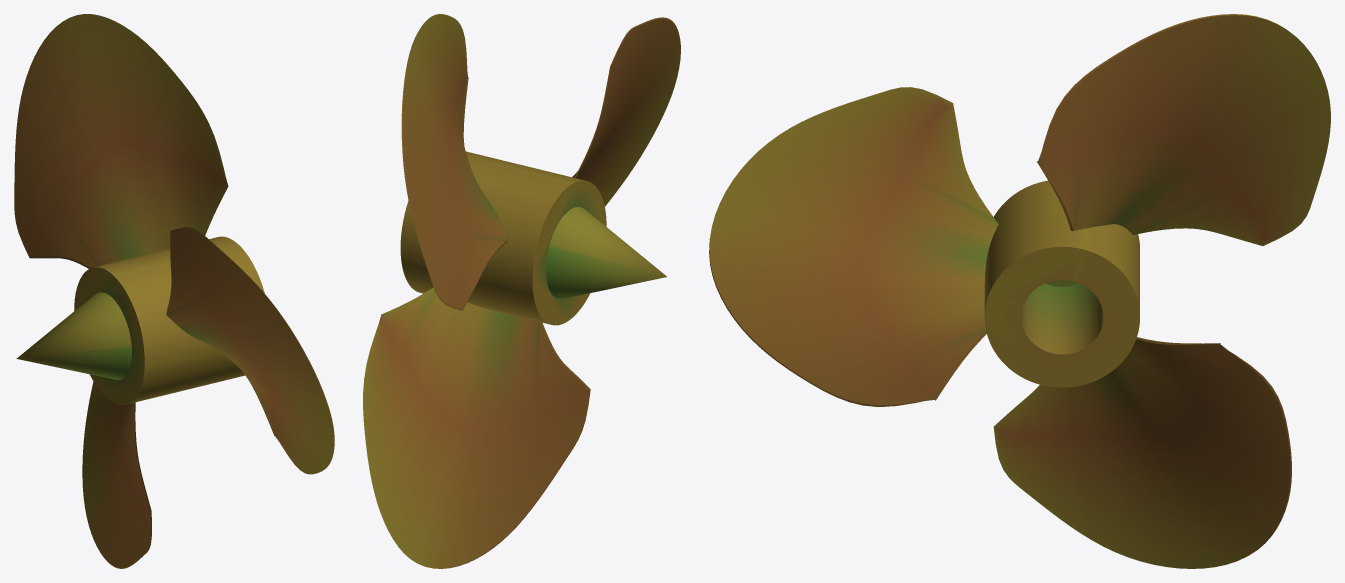
3 renders of one model, left to right at view 1: azimuth 30°, elevation 25°; view 2: azimuth 150°, elevation 25°; view 3: azimuth 270°, elevation 25°, orthographic. The views are drawn at different scales.
Visible parts, largest first — view 1: blade, blade.002, hub, blade.001, nose; view 2: blade.001, blade, hub, blade.002, nose; view 3: blade.002, blade, blade.001, hub.
Boxes of the visible parts, left/top/right/bottom form: blade: left=14, top=14, right=228, bottom=268; blade.002: left=166, top=227, right=334, bottom=474; hub: left=74, top=236, right=264, bottom=404; blade.001: left=82, top=381, right=151, bottom=568; nose: left=16, top=292, right=131, bottom=379; blade.001: left=363, top=287, right=590, bottom=568; blade: left=401, top=14, right=506, bottom=310; hub: left=400, top=151, right=606, bottom=325; blade.002: left=572, top=17, right=680, bottom=206; nose: left=546, top=207, right=666, bottom=299; blade.002: left=709, top=87, right=998, bottom=406; blade: left=1036, top=14, right=1330, bottom=245; blade.001: left=993, top=337, right=1291, bottom=568; hub: left=984, top=180, right=1139, bottom=387.
Bounding box in the file's own units: 2.22 × 5 × 4.96.
